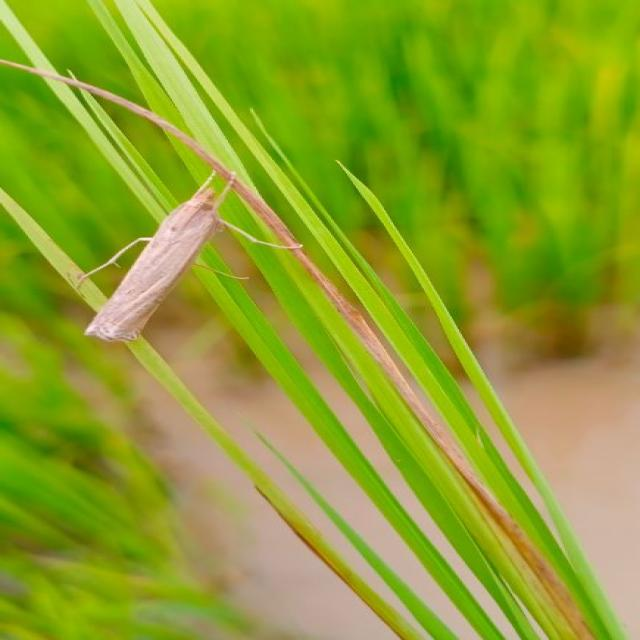rice stem borer -penggerek batang padi-: (71, 169, 303, 345)
